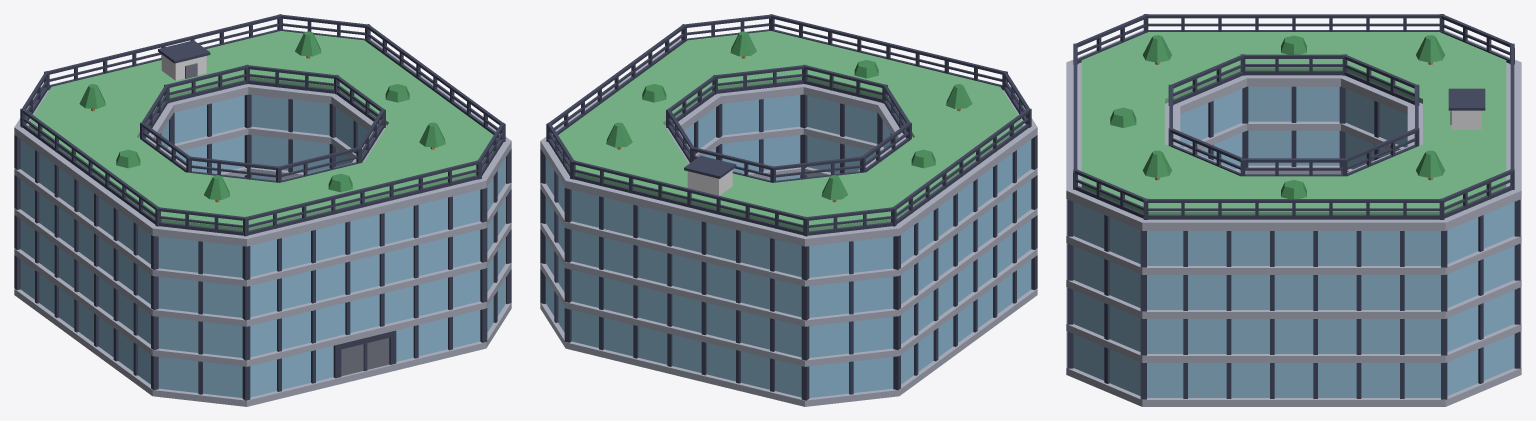
File: office-octagon-3x3-t5-tone-a.glb
3 views of the same model, side by side, from view 1: azimuth 30°, elevation 25°; view 2: azimuth 150°, elevation 25°; view 3: azimuth 270°, elevation 25° (orthographic). The views are drawn at different scales.
Visible parts, largest first — view 1: office-octagon-3x3-t5-tone-a; view 2: office-octagon-3x3-t5-tone-a; view 3: office-octagon-3x3-t5-tone-a.
Boxes of the visible parts, bbox=[...] form: office-octagon-3x3-t5-tone-a: bbox=[14, 14, 511, 406]; office-octagon-3x3-t5-tone-a: bbox=[540, 14, 1037, 406]; office-octagon-3x3-t5-tone-a: bbox=[1066, 14, 1521, 406].
Size of the model in its own units: 3 by 1.57 by 3.
1 material, 1 textured.
